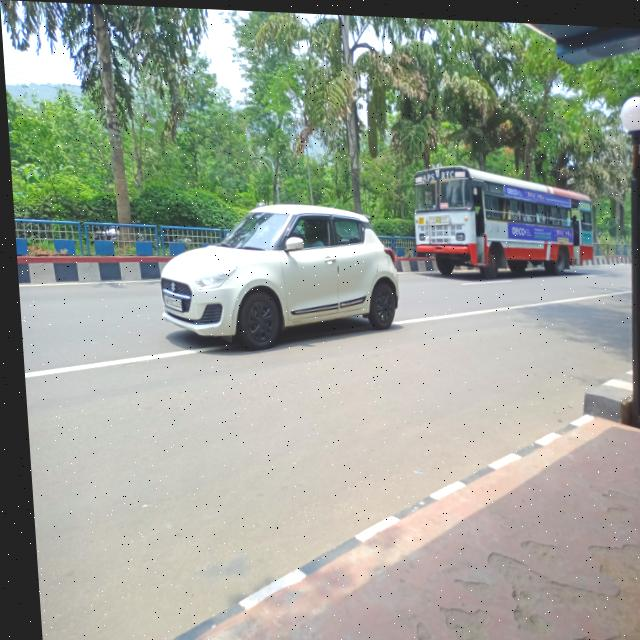bus: (401, 159, 607, 275)
car: (149, 190, 404, 350)
